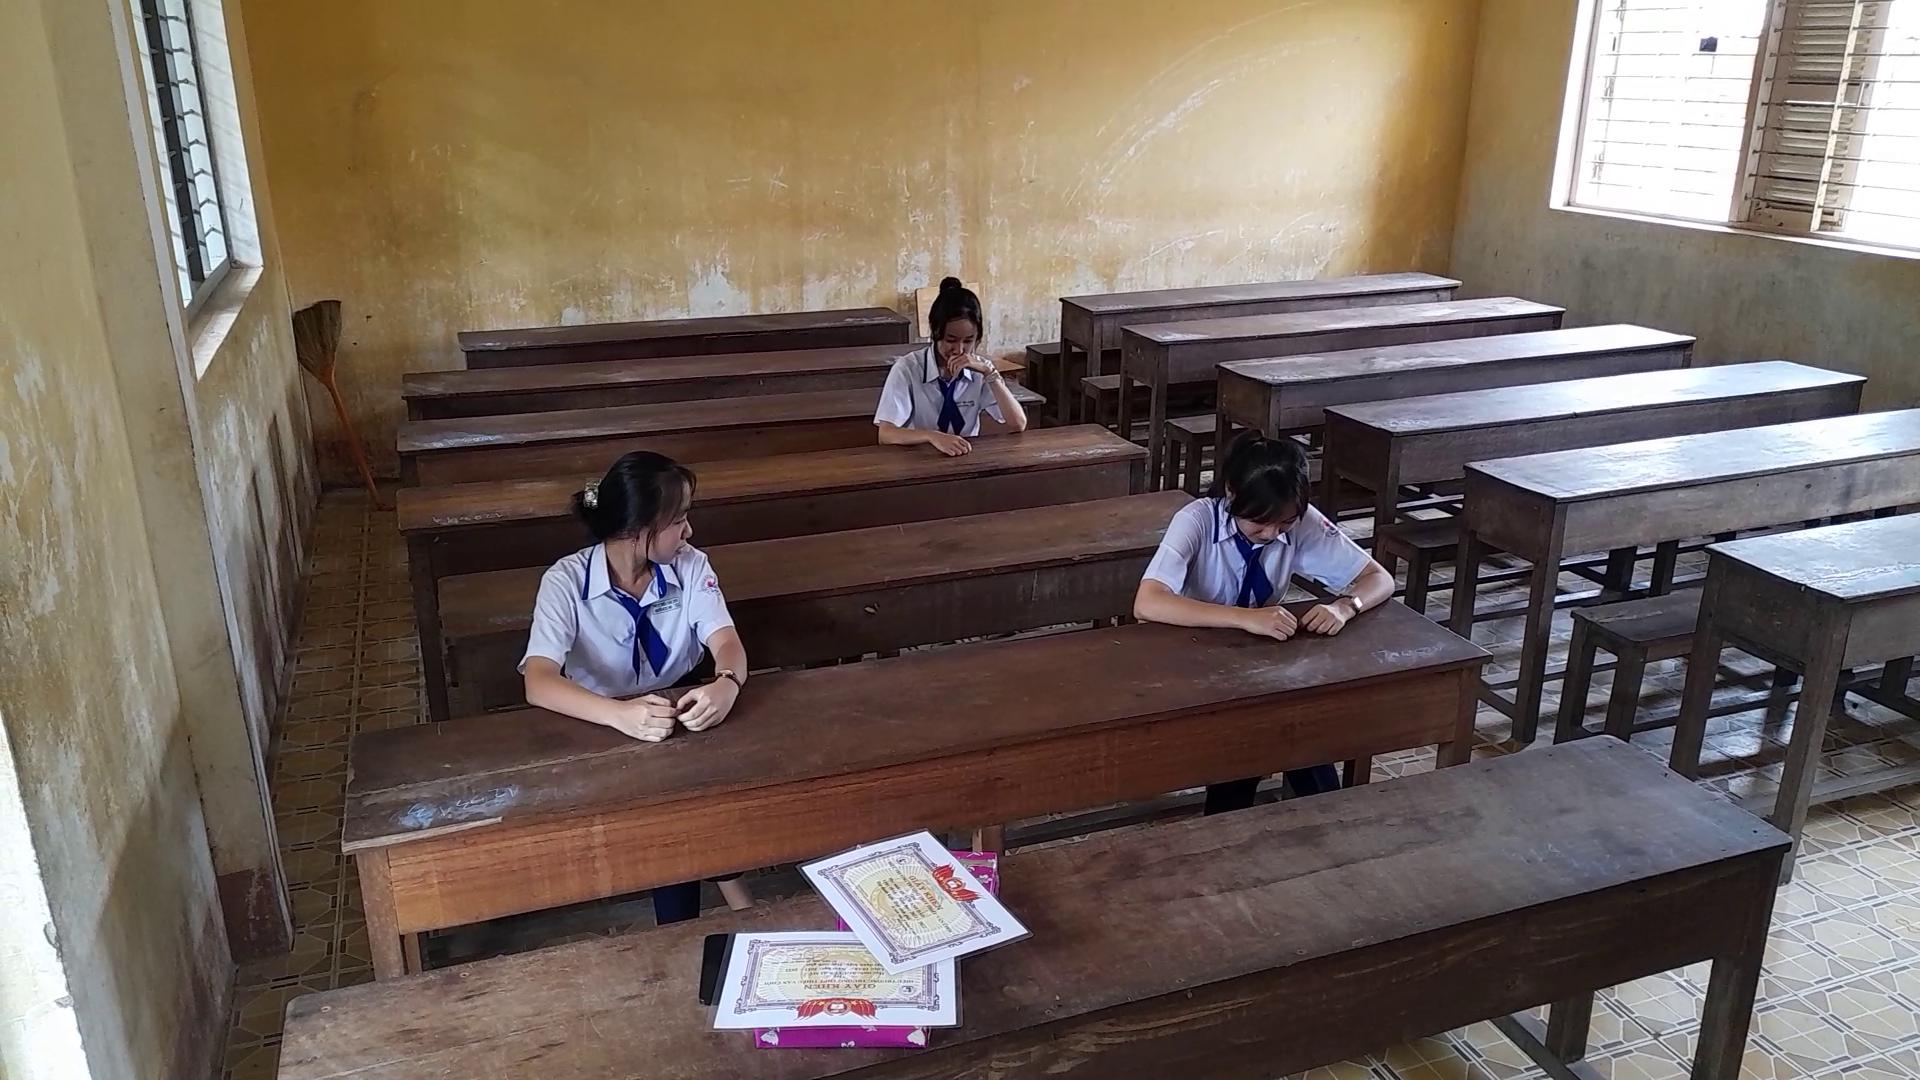Bend Over The Desk: (1193, 419, 1316, 558), (918, 261, 1004, 363)
Look Around: (560, 439, 713, 578)
Wave: (951, 349, 1033, 442)
